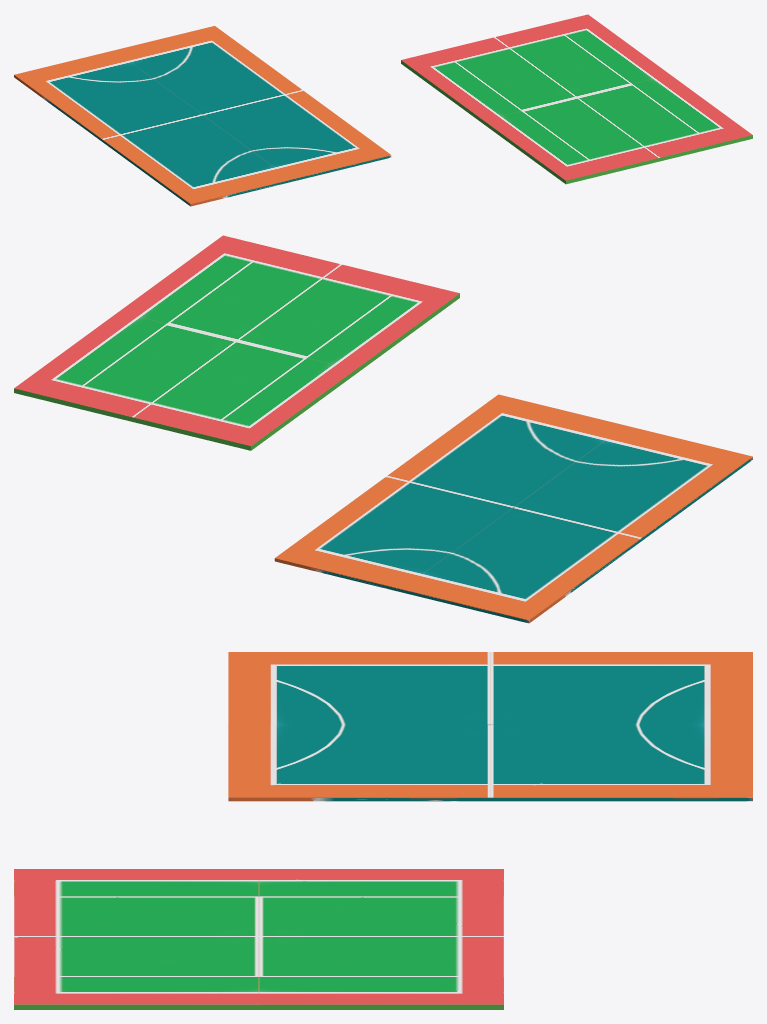
The model's file is Quadras.FBX.
The picture shows the model from 3 angles, top to bottom: view 1: azimuth 30°, elevation 25°; view 2: azimuth 150°, elevation 25°; view 3: azimuth 270°, elevation 25°; orthographic projection. The views are drawn at different scales.
Visible parts, largest first — view 1: qdraFutbol, qdraTenis; view 2: qdraFutbol, qdraTenis; view 3: qdraFutbol, qdraTenis.
Boxes of the visible parts, x1,y1,x2,y2 form: qdraFutbol: [14, 26, 391, 206]; qdraTenis: [401, 14, 752, 184]; qdraFutbol: [274, 394, 752, 623]; qdraTenis: [14, 235, 459, 450]; qdraFutbol: [228, 652, 752, 801]; qdraTenis: [14, 869, 503, 1009].
Bounding box in the file's own units: 102 × 0.9138 × 89.23.
